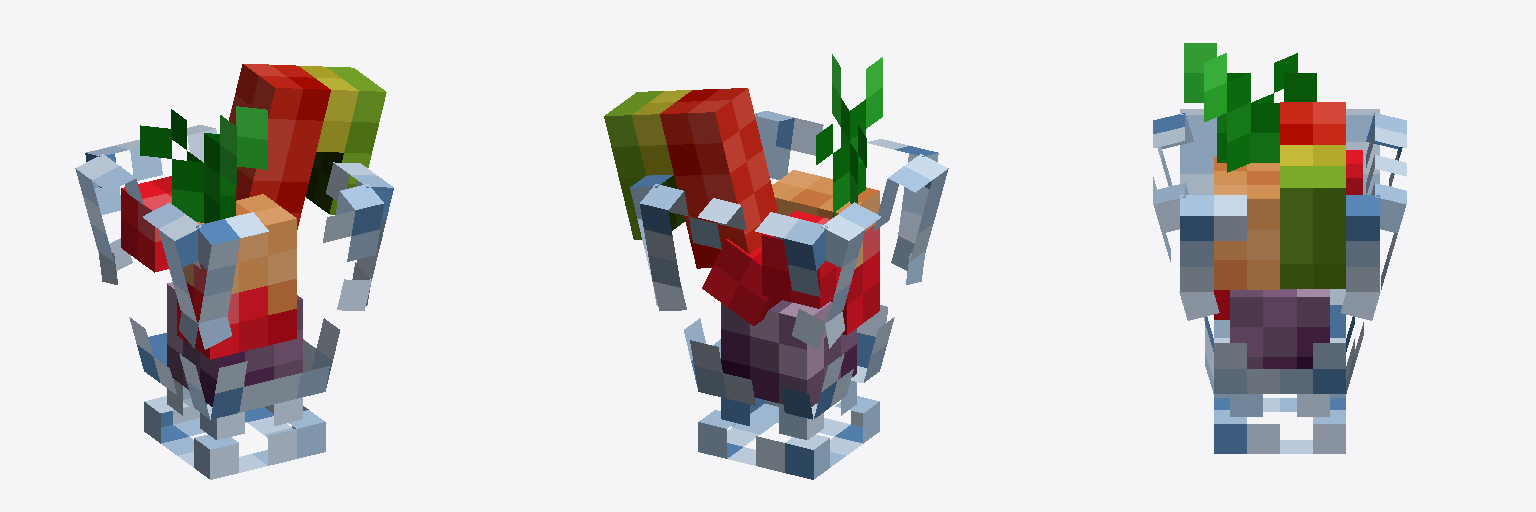
The picture shows the model from 3 angles: view 1: azimuth 30°, elevation 25°; view 2: azimuth 150°, elevation 25°; view 3: azimuth 270°, elevation 25°; orthographic projection.
Parts seen in each view (by area): view 1: cube.236, cube.233, cube.222, cube.229, cube.232, cube.240, cube.239, cube.235, cube.228, cube.238, cube.241, cube.231 (+5 smaller); view 2: cube.233, cube.239, cube.230, cube.222, cube.232, cube.236, cube.229, cube.237, cube.241, cube.235, cube.238, cube.227 (+6 smaller); view 3: cube.235, cube.231, cube.236, cube.239, cube.222, cube.226, cube.241, cube.240, cube.230, cube.232, cube.229, cube.233 (+4 smaller).
Part boxes in pixels (x1,y1,x2,y2): cube.236: (177,194,296,359); cube.233: (229,64,330,229); cube.222: (144,396,325,479); cube.229: (179,184,383,348); cube.232: (75,154,231,349); cube.240: (140,106,267,222); cube.239: (167,282,302,406); cube.235: (306,67,386,214); cube.228: (211,361,329,419); cube.238: (121,176,171,272); cube.241: (171,109,236,223); cube.231: (326,162,393,310); cube.233: (660,88,778,268); cube.239: (721,300,856,406); cube.230: (640,184,844,348); cube.222: (698,396,879,479); cube.232: (792,154,948,349); cube.236: (772,170,879,334); cube.229: (755,111,938,284); cube.237: (702,239,781,325); cube.241: (816,57,882,217); cube.235: (604,91,684,239); cube.238: (762,211,852,308); cube.227: (690,340,812,419); cube.235: (1280,166,1345,288); cube.231: (1180,195,1379,291); cube.236: (1214,157,1279,319); cube.239: (1230,289,1329,368); cube.222: (1214,394,1345,453); cube.226: (1214,343,1345,393); cube.241: (1184,43,1316,162); cube.240: (1204,53,1297,172); cube.230: (1340,113,1406,320); cube.232: (1180,109,1379,194); cube.229: (1153,113,1219,320); cube.233: (1280,102,1345,144).
Size of the model in its own units: 0.5686 by 0.75 by 0.4765.
Materials: 1 (1 with a texture image).